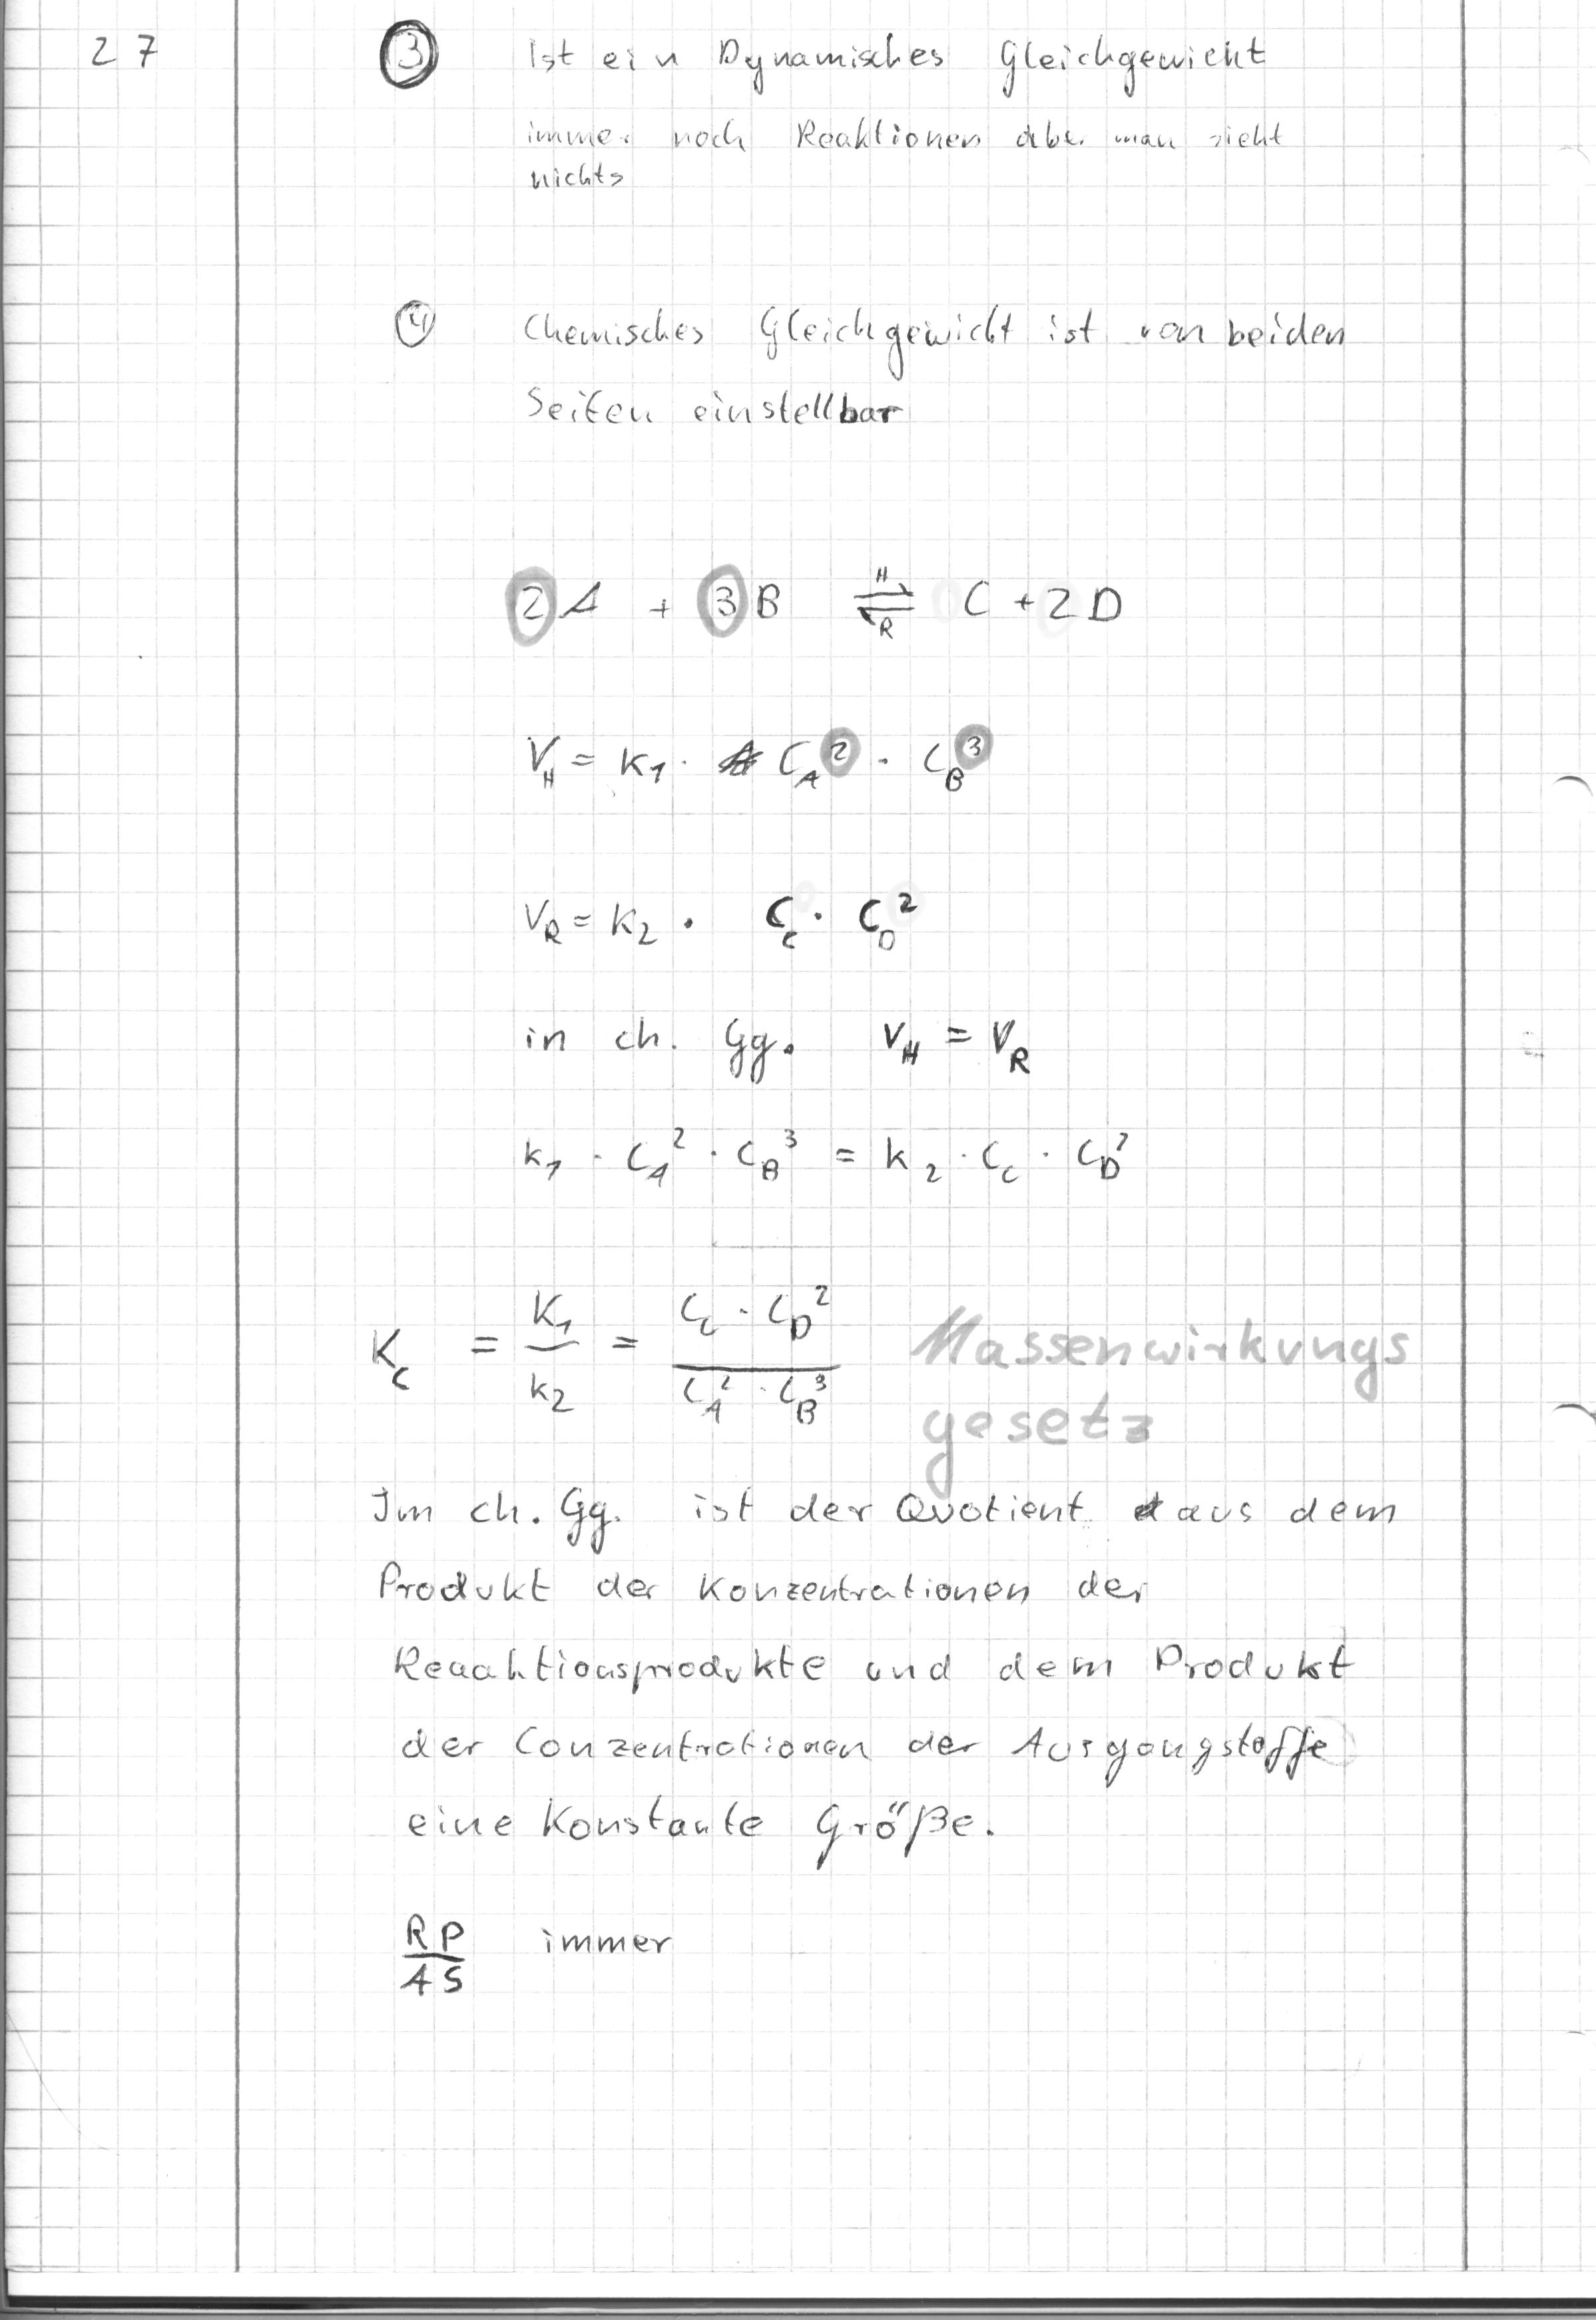word: (388, 1633, 1353, 1880), (378, 9, 1288, 209), (388, 286, 1364, 451), (362, 1471, 1404, 1619), (510, 722, 1004, 972), (511, 1006, 1143, 1198), (491, 539, 1153, 673), (356, 1275, 852, 1437), (390, 1898, 673, 2024)
